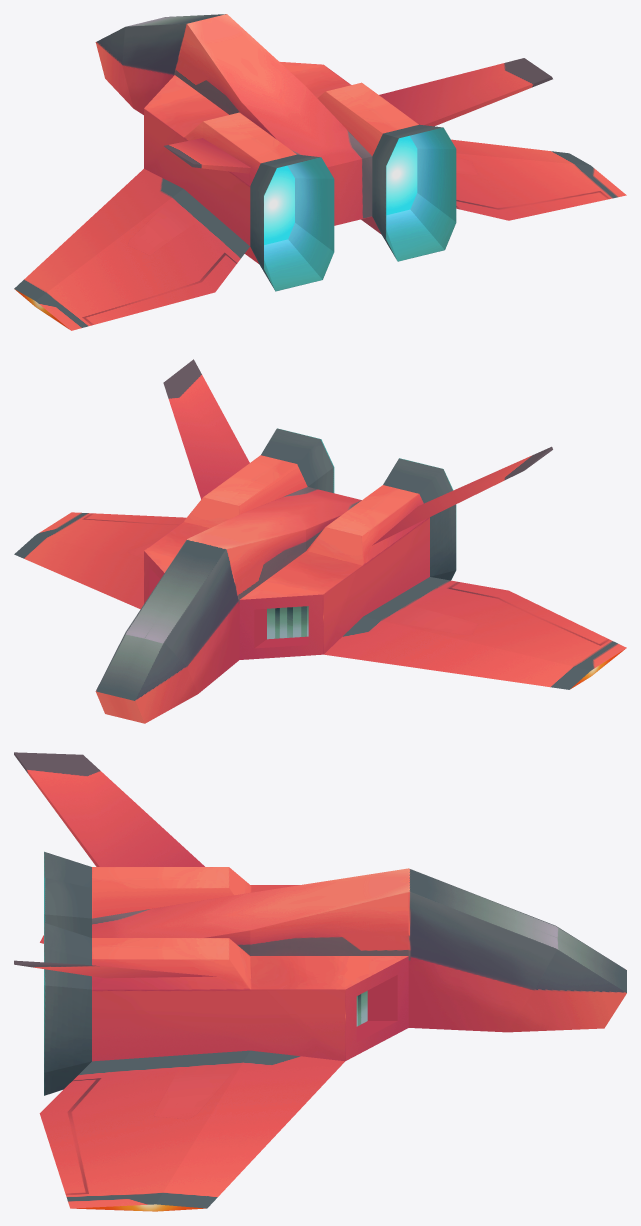
Rendered from ship.glb.
The picture shows the model from 3 angles, top to bottom: view 1: azimuth 30°, elevation 25°; view 2: azimuth 150°, elevation 25°; view 3: azimuth 270°, elevation 25°; orthographic projection. The views are drawn at different scales.
Visible parts, largest first — view 1: ship.001; view 2: ship.001; view 3: ship.001.
Part boxes in pixels (<box>): ship.001: <box>14,14,626,330</box>; ship.001: <box>14,359,626,723</box>; ship.001: <box>14,752,626,1211</box>.
Bounding box in the file's own units: 4.83 × 1.35 × 3.87.
1 material, 1 textured.
